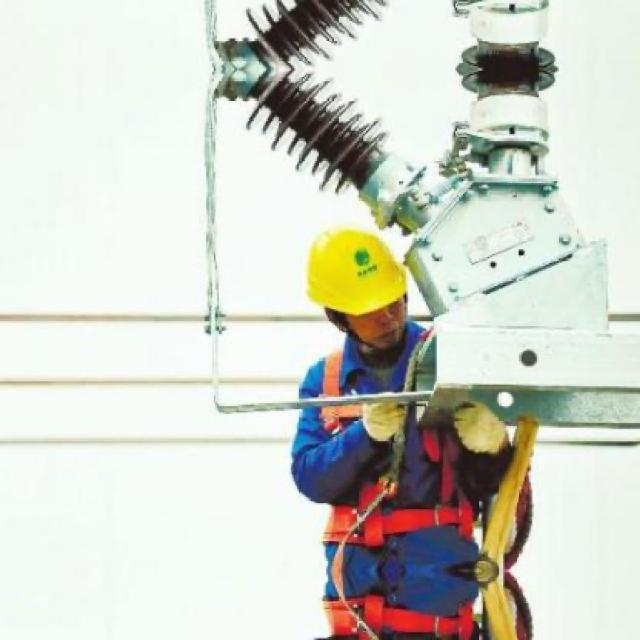helmet: (302, 202, 416, 362)
